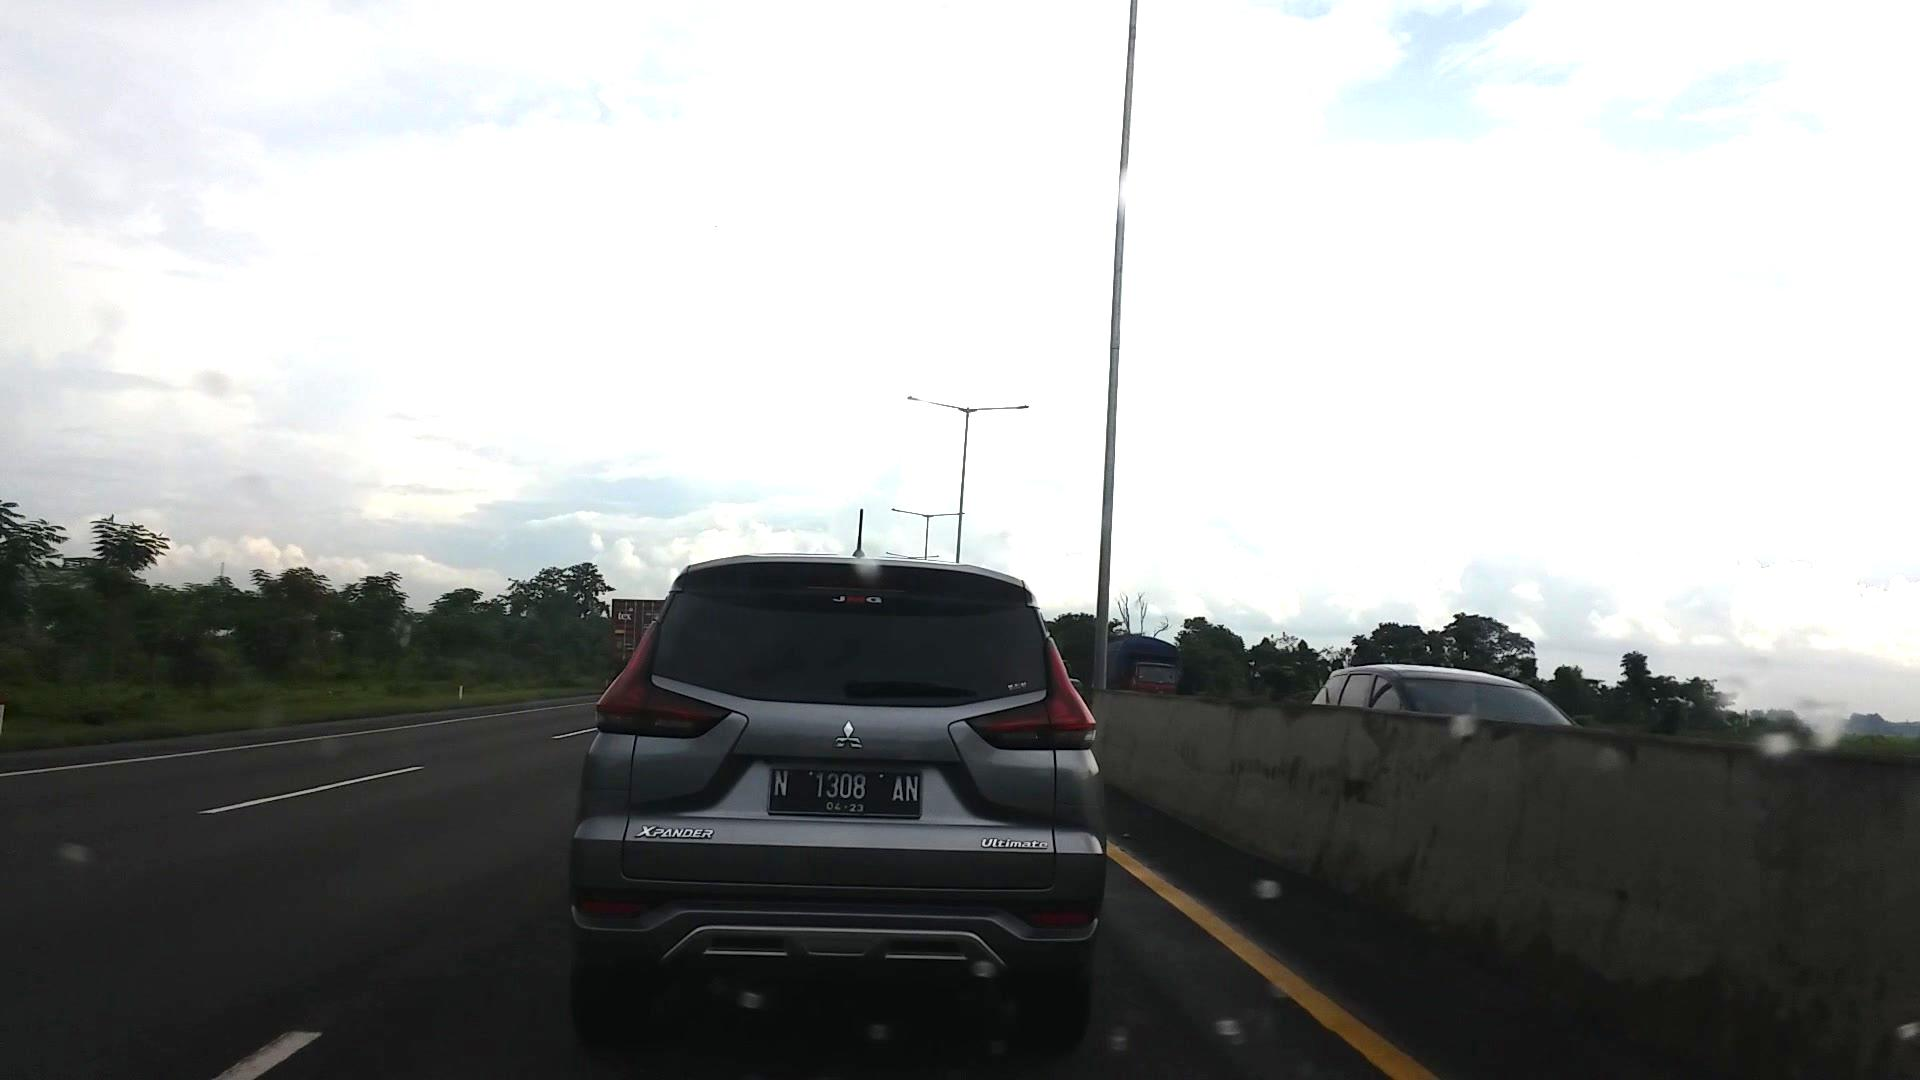plate_positive: (765, 767, 920, 819)
